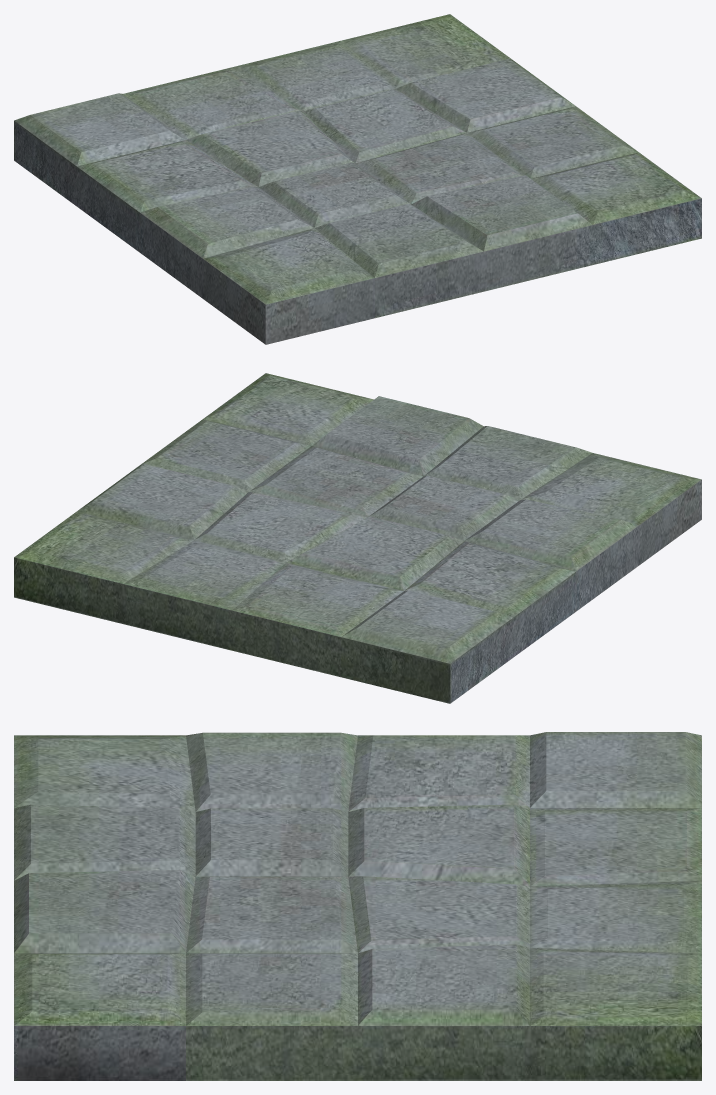
File: InsetStoneFloor2.glb
The picture shows the model from 3 angles, top to bottom: view 1: azimuth 30°, elevation 25°; view 2: azimuth 150°, elevation 25°; view 3: azimuth 270°, elevation 25°; orthographic projection. The views are drawn at different scales.
Parts seen in each view (by area): view 1: Cube; view 2: Cube; view 3: Cube.
Boxes of the visible parts, bbox=[...] form: Cube: bbox=[14, 14, 701, 344]; Cube: bbox=[14, 373, 701, 703]; Cube: bbox=[14, 732, 701, 1080].
Bounding box in the file's own units: 2 × 0.2193 × 2.
Materials: 1 (1 with a texture image).
